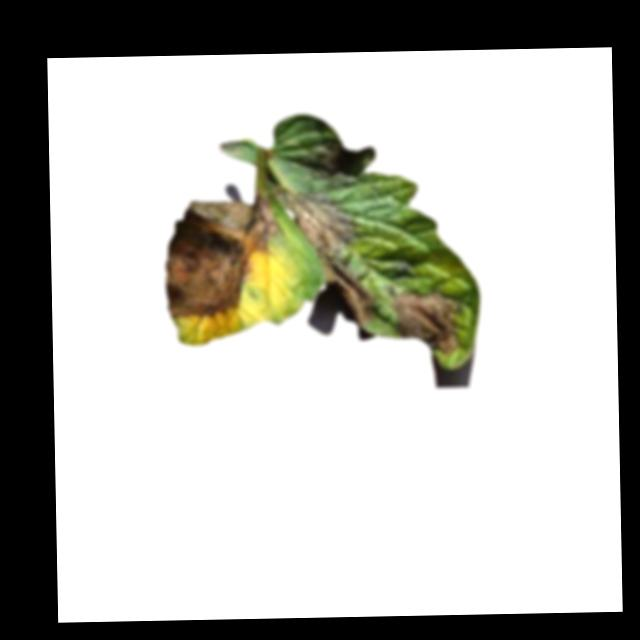Late_blight: (270, 179, 378, 329), (161, 193, 284, 320), (386, 288, 462, 357), (306, 142, 361, 186)
